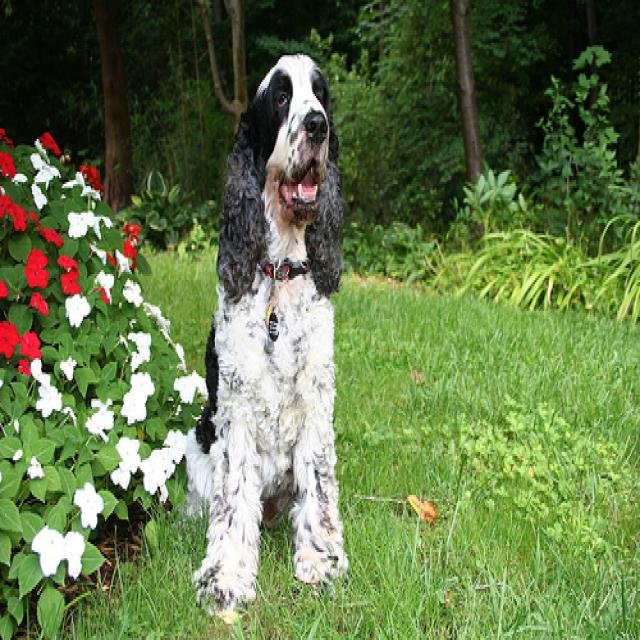dog-english_cocker_spaniel: (178, 33, 355, 620)
